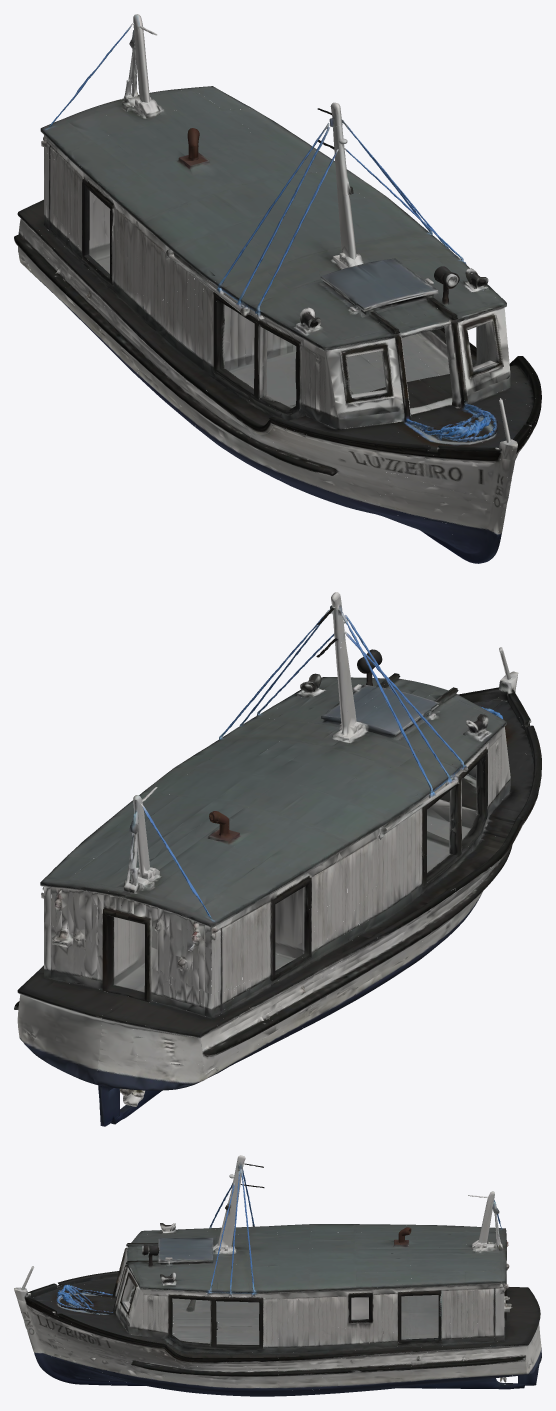
File: luzeiro_a.glb
3 renders of one model, top to bottom at view 1: azimuth 30°, elevation 25°; view 2: azimuth 150°, elevation 25°; view 3: azimuth 270°, elevation 25°, orthographic. The views are drawn at different scales.
Parts seen in each view (by area): view 1: tripo_node_a9f6e284-f70d-4e98-a607-a2170e1208ba; view 2: tripo_node_a9f6e284-f70d-4e98-a607-a2170e1208ba; view 3: tripo_node_a9f6e284-f70d-4e98-a607-a2170e1208ba.
Part boxes in pixels (box(x1,y1,x2,y2)): tripo_node_a9f6e284-f70d-4e98-a607-a2170e1208ba: box(14, 14, 541, 563); tripo_node_a9f6e284-f70d-4e98-a607-a2170e1208ba: box(14, 592, 541, 1126); tripo_node_a9f6e284-f70d-4e98-a607-a2170e1208ba: box(14, 1155, 541, 1396).
Bounding box in the file's own units: 5.27 × 7.3 × 15.
Materials: 1 (1 with a texture image).
